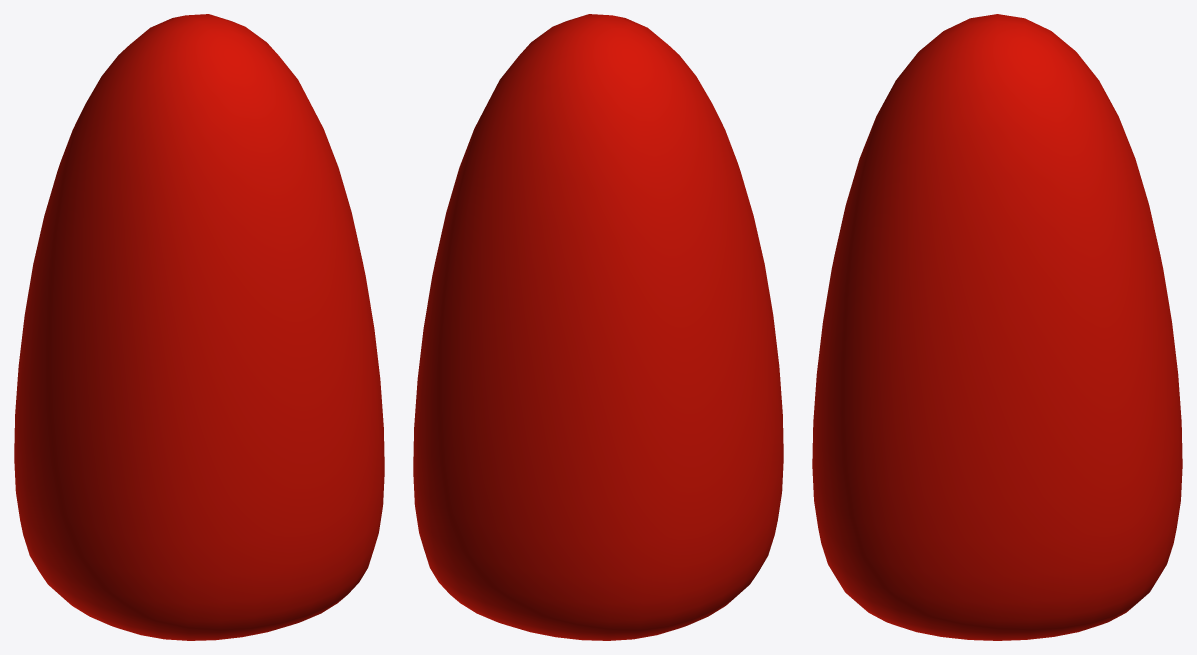
The model's file is SlimeAnimated.fbx.
3 views of the same model, side by side, from view 1: azimuth 30°, elevation 25°; view 2: azimuth 150°, elevation 25°; view 3: azimuth 270°, elevation 25° (orthographic).
Visible parts, largest first — view 1: SLIME; view 2: SLIME; view 3: SLIME.
Boxes of the visible parts, x1,y1,x2,y2 form: SLIME: (14, 14, 384, 640); SLIME: (413, 14, 783, 640); SLIME: (812, 14, 1182, 640).
Bounding box in the file's own units: 133 × 234 × 136.
